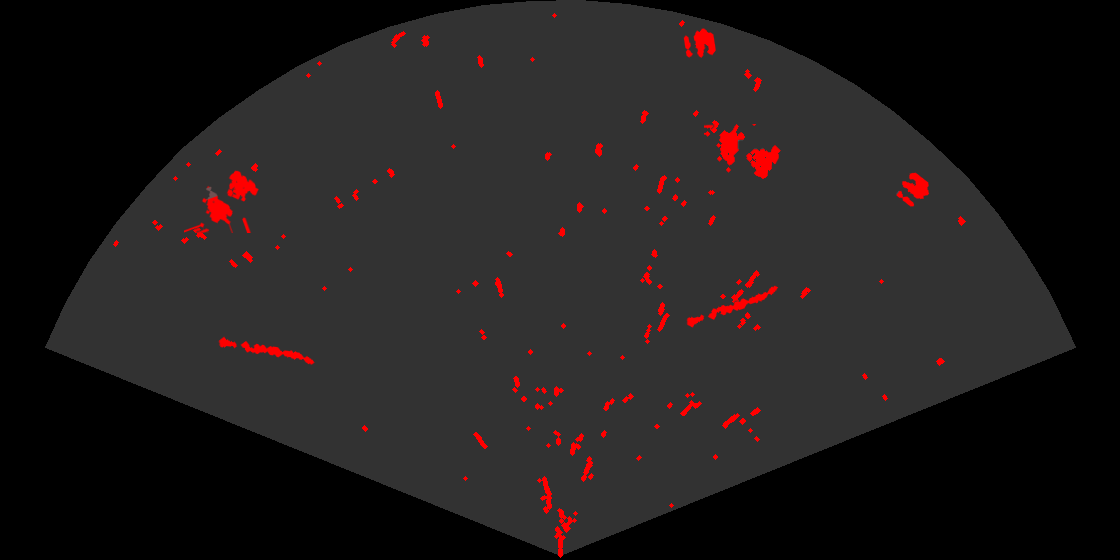ball: (895, 171, 931, 208), (682, 27, 717, 59)
cage: (184, 169, 260, 233), (704, 124, 782, 181)
chain: (684, 284, 780, 329), (216, 335, 316, 366)
